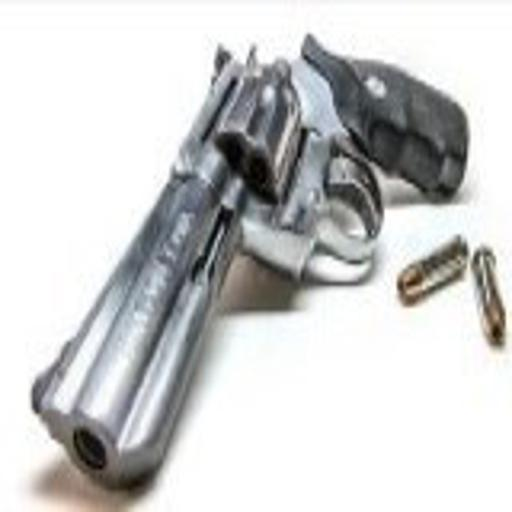Handgun: (24, 24, 466, 498)
